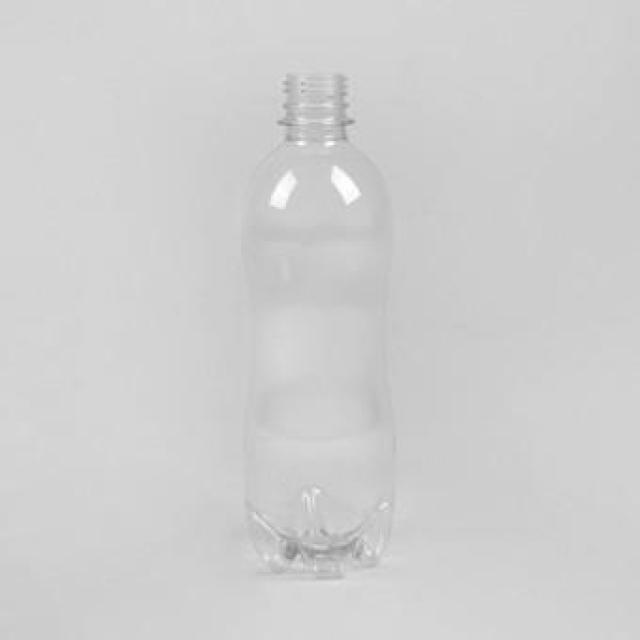plastic: (241, 75, 393, 574)
